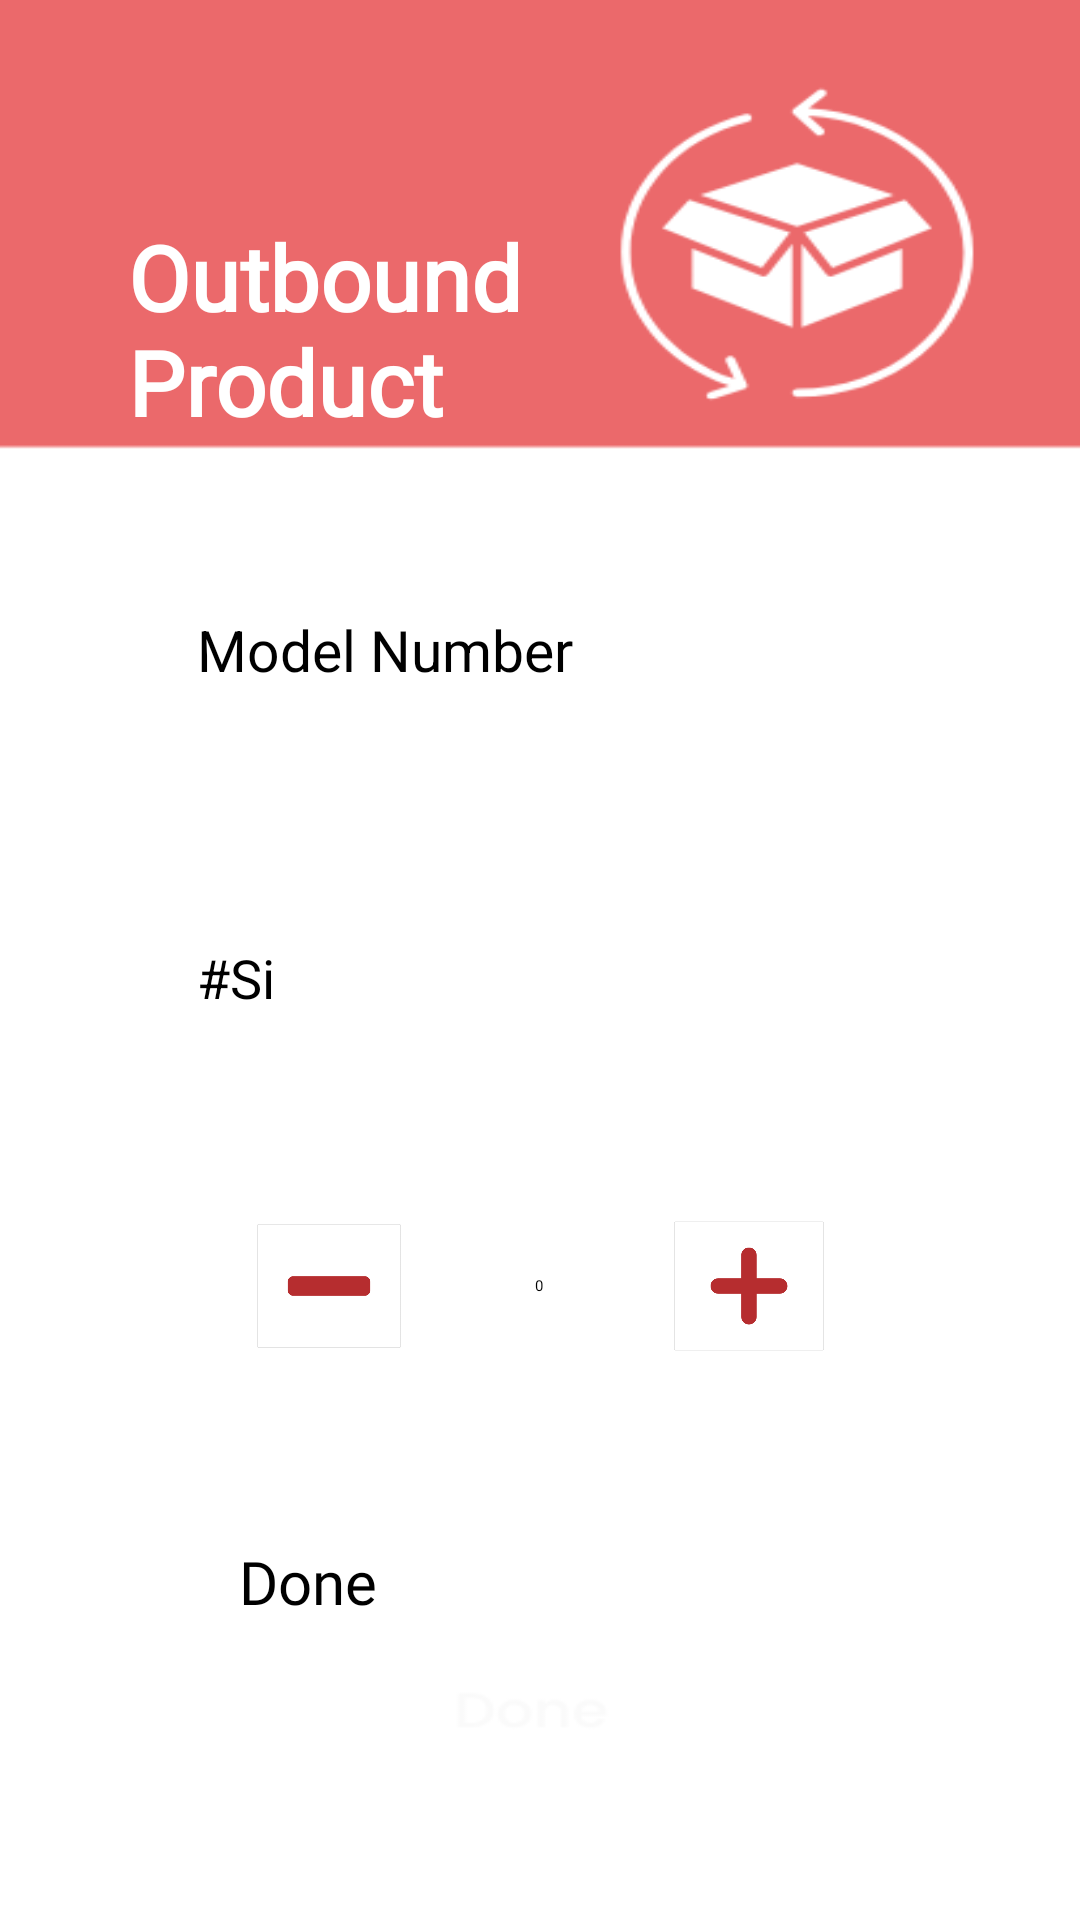

Screen size 1080w x 1920h. Icon name, then its box in pixels as (x1, y1, x2, y2):
minus: (257, 1224, 401, 1348)
plus: (674, 1222, 824, 1350)
